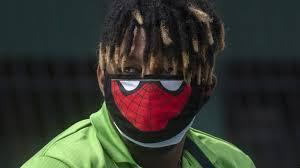Wearing Mask: (94, 3, 222, 148)
